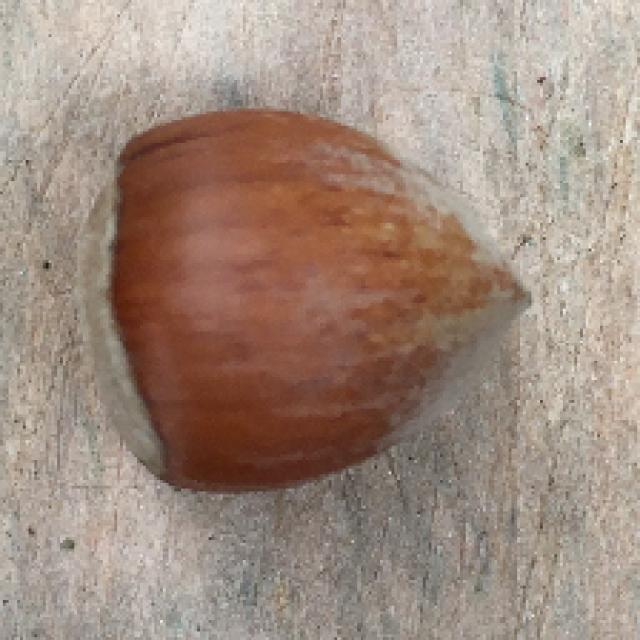qualityHazelnut: (75, 112, 538, 498)
